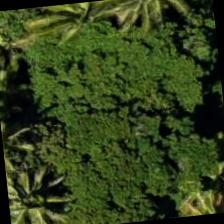Kelapa_Sawit: (4, 153, 81, 223), (27, 0, 122, 56)
